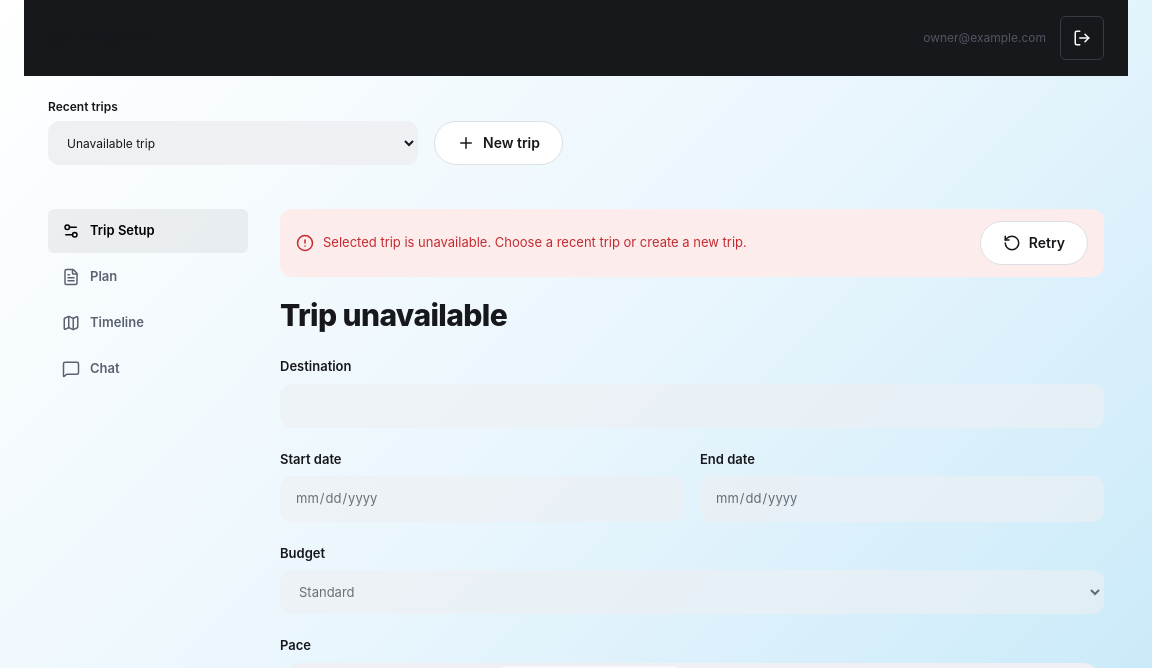
Test case: trip workspace › recovers from an unavailable linked trip (404) by selecting a recent trip
Expected: the message shows "Selected trip is unavailable", [323,234,747,250]
Expected: the button "New trip" is enabled, [434,121,563,165]
Select "Penang / 2026-10-03" in the dropdown labelled "Recent trips" at (233, 143), box [48,121,418,165]
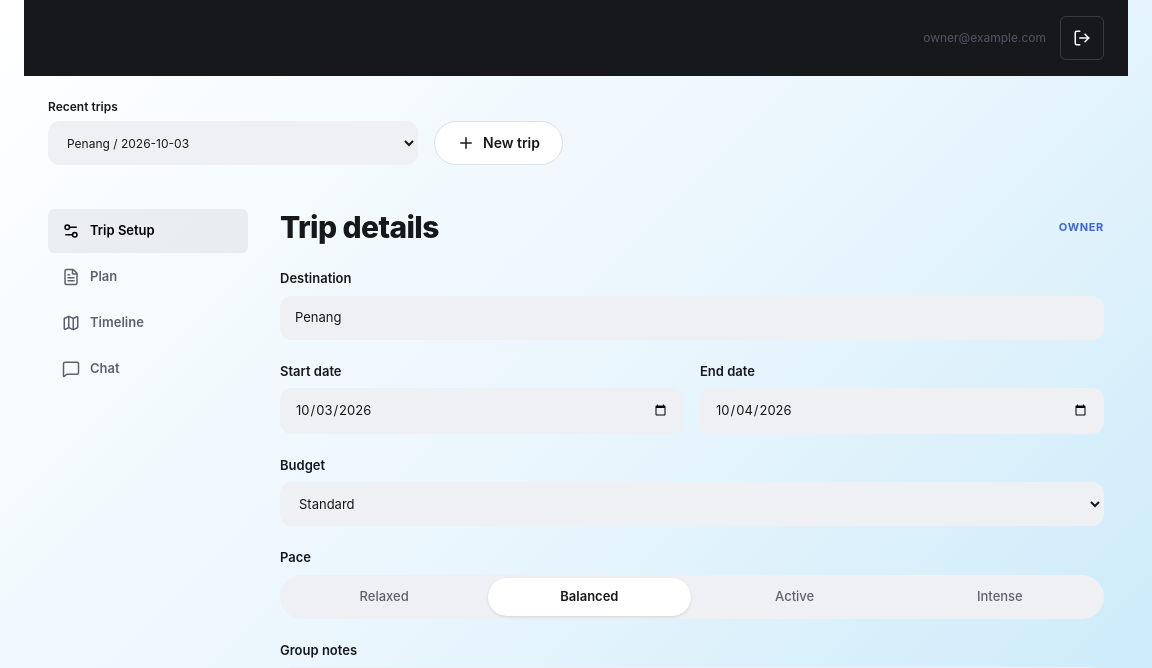
Expected: the field showing "Penang" is shown, [280,296,1104,340]
Expected: the message "Selected trip is unavailable. Choose a recent trip or create a new trip. Retry" is gone
